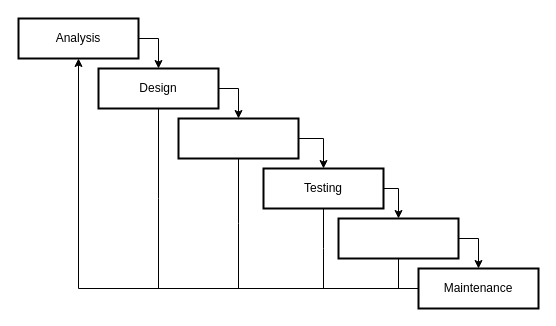
The diagram is 556 pixels wide and 326 high, and some of its shapes have lost their labels. Here are the shapes that lost their labels. From the top down, the centre of each, then its label:
[238,138]: Coding
[398,238]: Implementation
